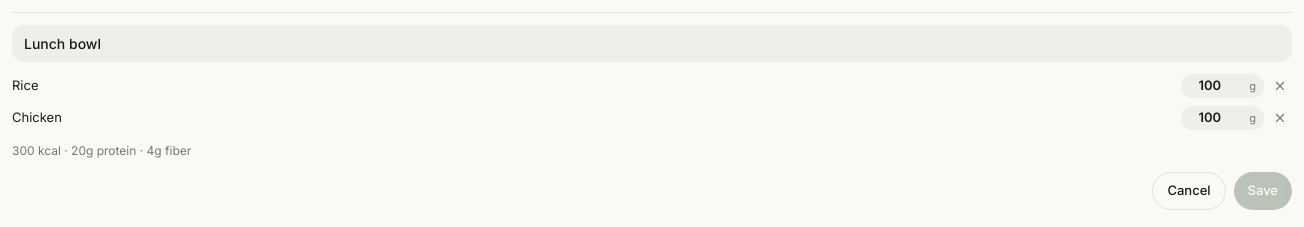
it: MyMealEditor › disables remove on the last kept row
The width and height of the screenshot is (1304, 227).
Click the button named "Remove Rice": (1280, 86) [1268,74,1292,98]
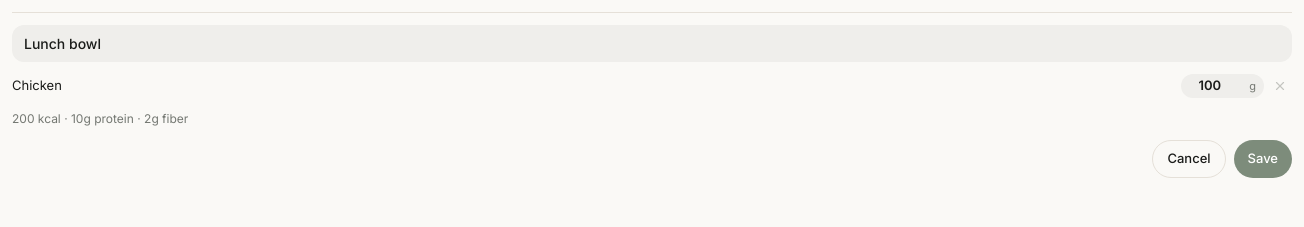
Now the button named "Remove Chicken" is disabled, box [1268,74,1292,98]
